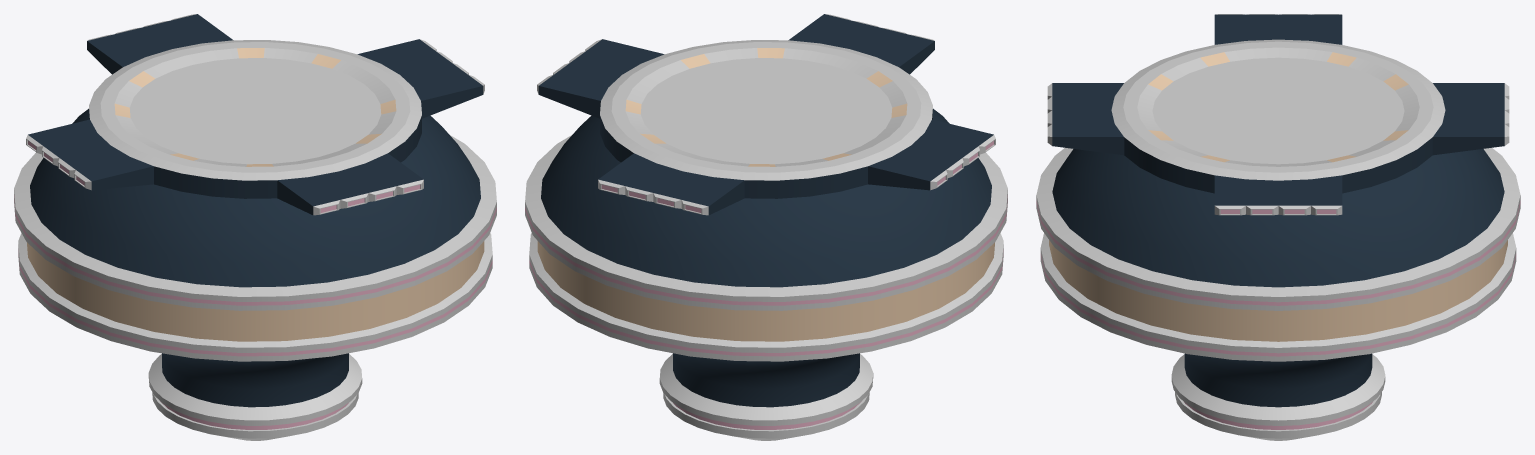
The model's file is SERVICE-POINT.glb.
3 renders of one model, left to right at view 1: azimuth 30°, elevation 25°; view 2: azimuth 150°, elevation 25°; view 3: azimuth 270°, elevation 25°, orthographic.
Visible parts, largest first — view 1: Cylinder; view 2: Cylinder; view 3: Cylinder.
Boxes of the visible parts, <box> form: Cylinder: <box>14,14,496,440</box>; Cylinder: <box>525,14,1007,440</box>; Cylinder: <box>1036,14,1520,440</box>.
Size of the model in its own units: 7.23 by 5.25 by 7.23.
